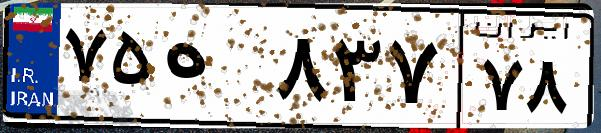3: (330, 28, 385, 110)
5: (110, 28, 158, 98)
7: (385, 28, 445, 110), (57, 26, 110, 100), (475, 38, 525, 113)
8: (270, 28, 330, 110), (525, 38, 570, 115)
ه: (158, 20, 270, 120)
